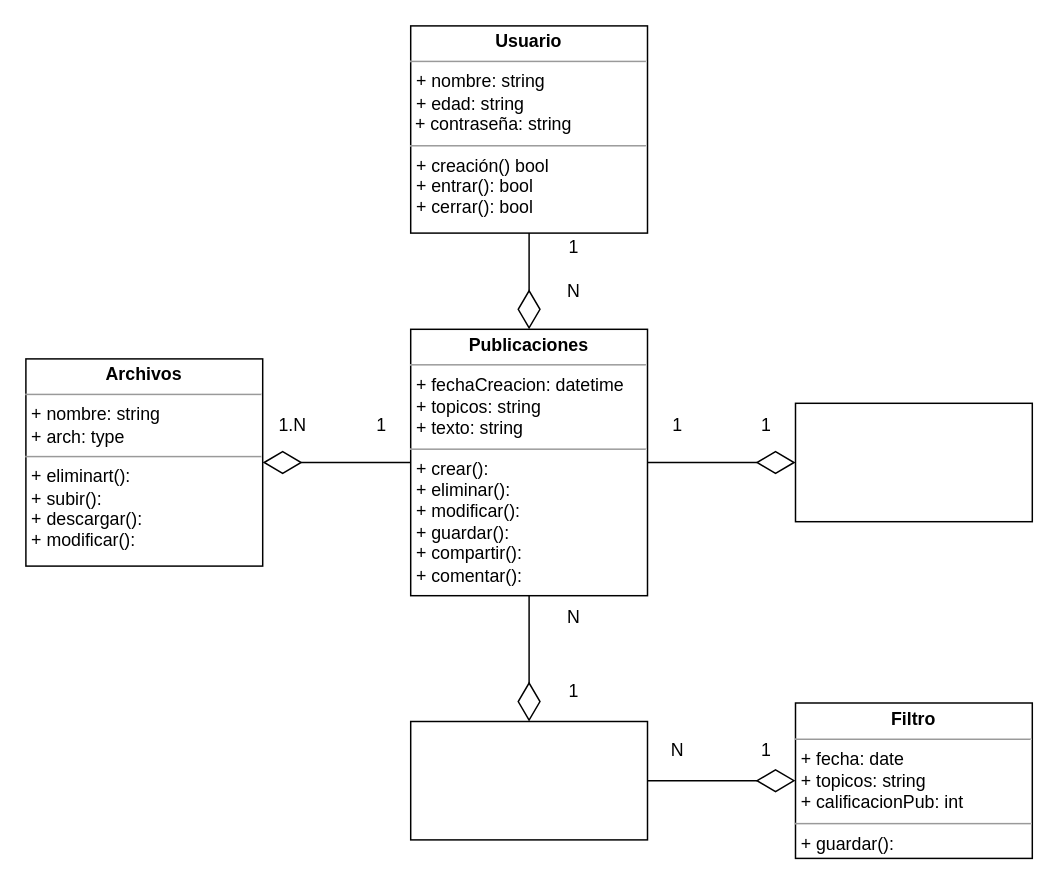
This 1058x885 diagram has some shape labels left out. Each missing label, with the box of its shape:
Buscar + datos: string + ingresar():: (409, 720, 648, 840)
Calificar + calificación: int + calificar():: (794, 402, 1032, 522)
